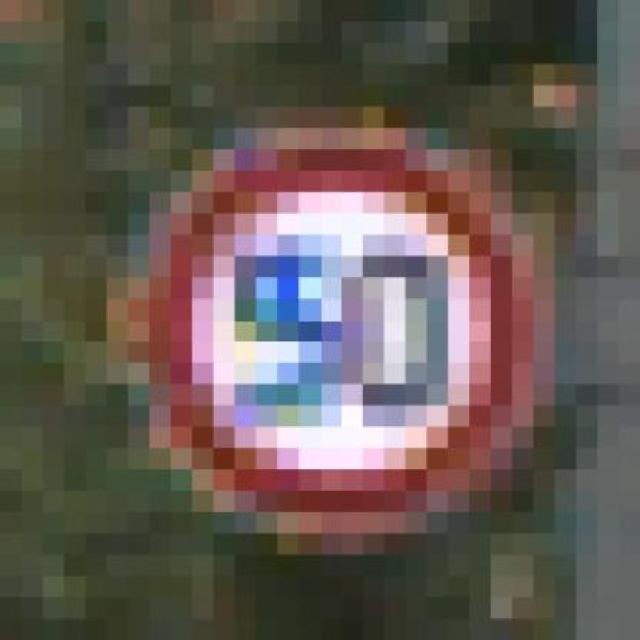Speed limit 50: (146, 119, 543, 541)
